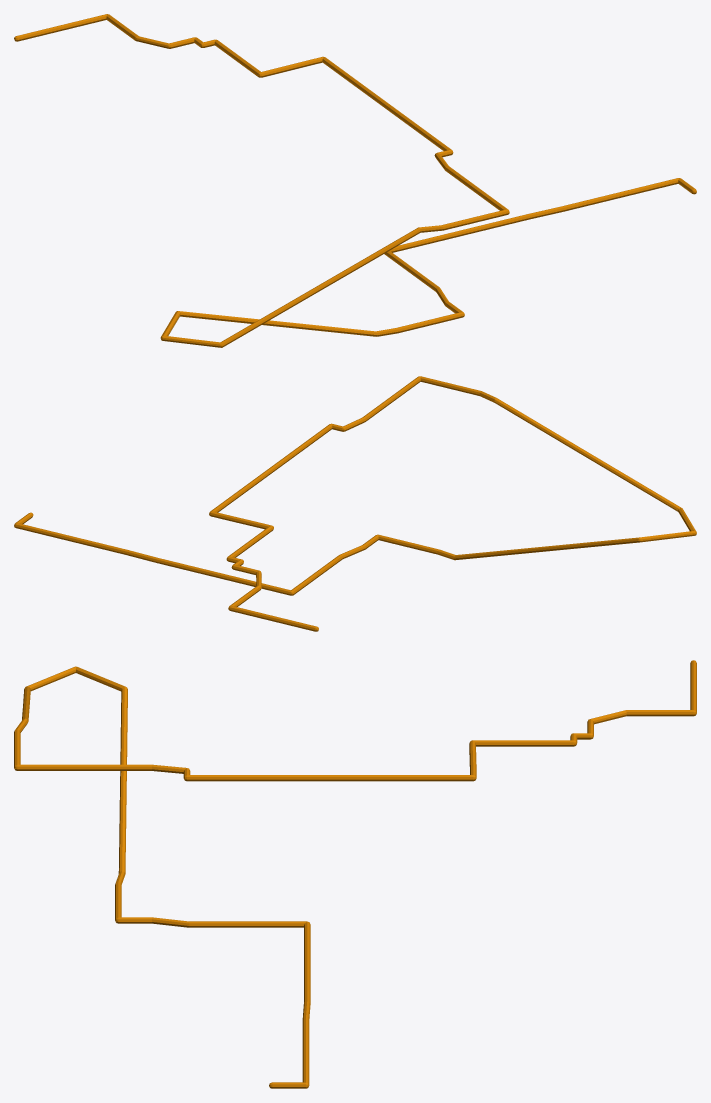
The picture shows the model from 3 angles, top to bottom: view 1: azimuth 30°, elevation 25°; view 2: azimuth 150°, elevation 25°; view 3: azimuth 270°, elevation 25°; orthographic projection. The views are drawn at different scales.
Size of the model in its own units: 2406 by 520 by 2028.
